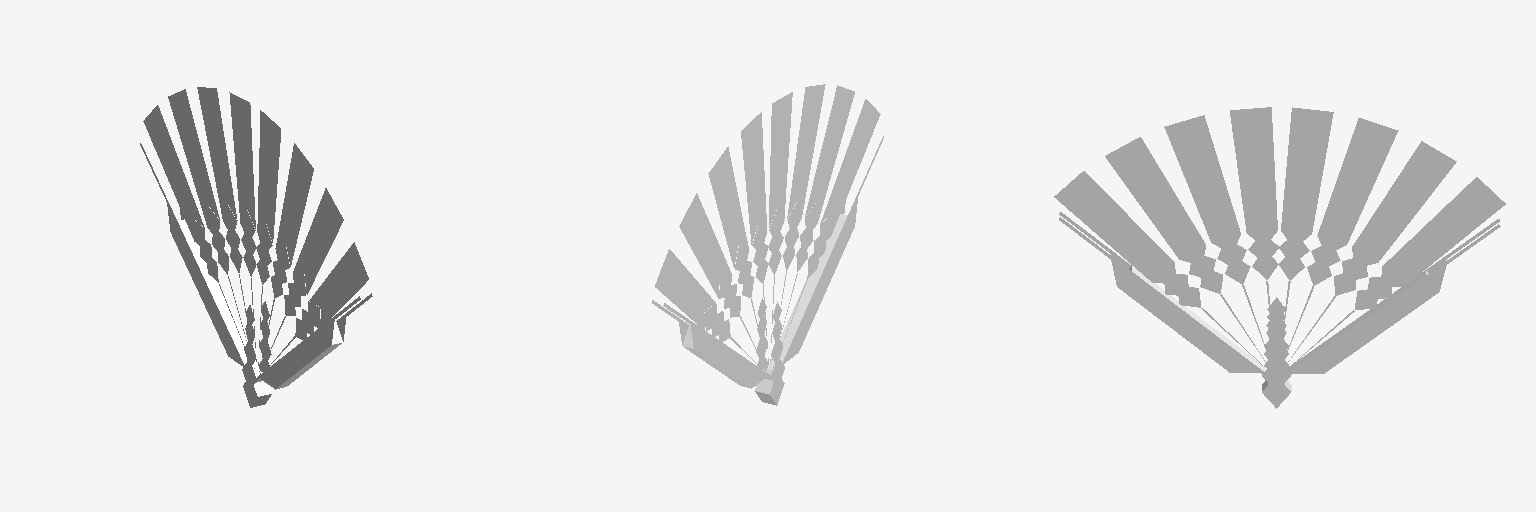
File: macabredancer02.obj
3 views of the same model, side by side, from view 1: azimuth 30°, elevation 25°; view 2: azimuth 150°, elevation 25°; view 3: azimuth 270°, elevation 25° (orthographic).
Parts seen in each view (by area): view 1: MDL_w2dfn02l_bld00.002; view 2: MDL_w2dfn02l_bld00.002; view 3: MDL_w2dfn02l_bld00.002.
Boxes of the visible parts, box(x1,y1,x2,y2) form: MDL_w2dfn02l_bld00.002: box(140, 87, 372, 407); MDL_w2dfn02l_bld00.002: box(652, 84, 883, 405); MDL_w2dfn02l_bld00.002: box(1054, 107, 1505, 408).
Bounding box in the file's own units: 0.0434 × 0.7591 × 1.04.